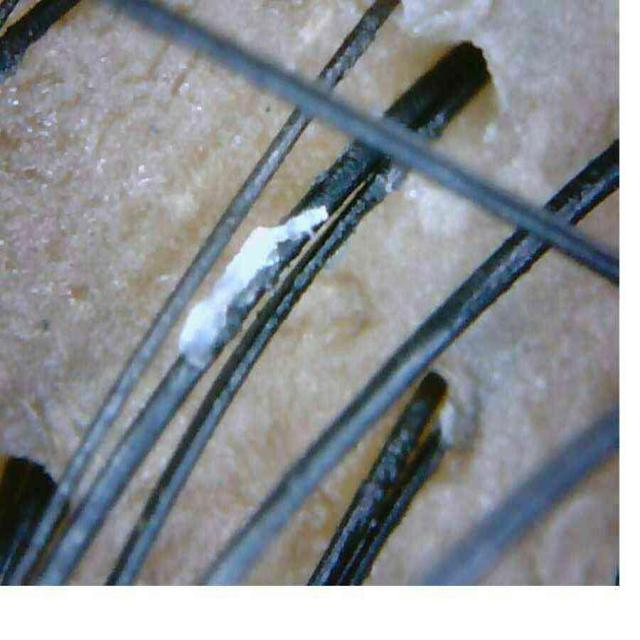d: (180, 206, 329, 368)
